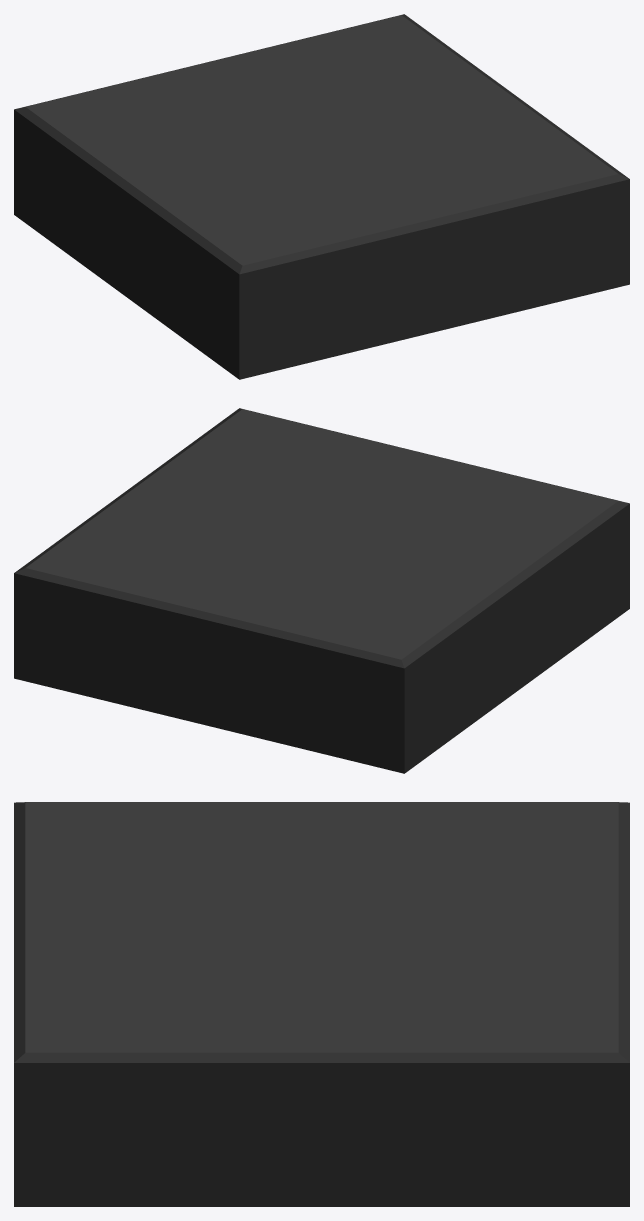
Rendered from Bottom_A1.fbx.
3 renders of one model, top to bottom at view 1: azimuth 30°, elevation 25°; view 2: azimuth 150°, elevation 25°; view 3: azimuth 270°, elevation 25°, orthographic. The views are drawn at different scales.
Visible parts, largest first — view 1: Bottom_A1; view 2: Bottom_A1; view 3: Bottom_A1.
Boxes of the visible parts, x1,y1,x2,y2 form: Bottom_A1: [14, 14, 629, 379]; Bottom_A1: [14, 408, 629, 773]; Bottom_A1: [14, 802, 629, 1206].
Size of the model in its own units: 623 by 167 by 623.
Materials: 1 (1 with a texture image).
